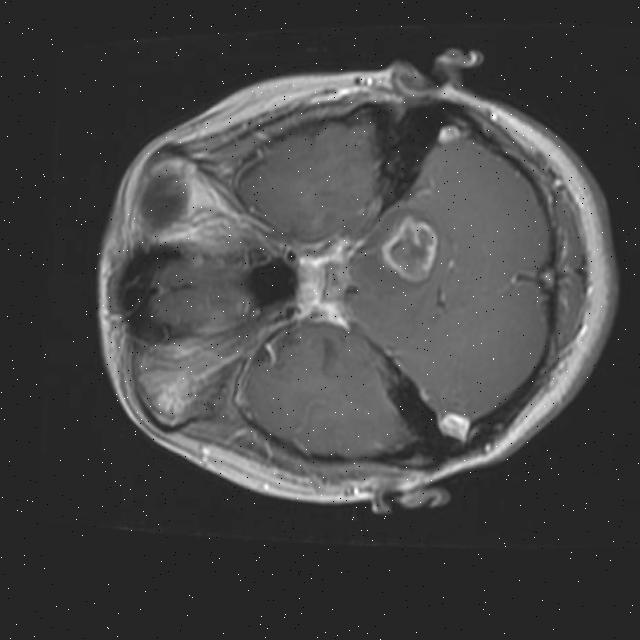Glioma: (376, 210, 441, 286)
Pituitary: (294, 255, 327, 307)
